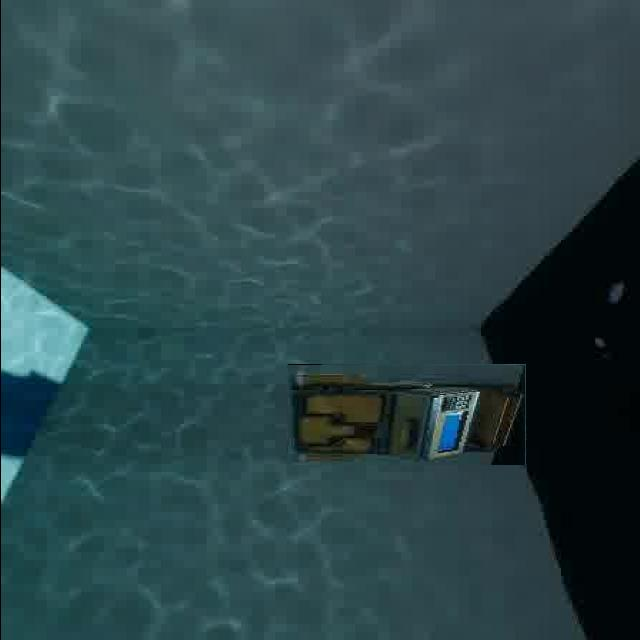Control Panel: (287, 364, 525, 465)
